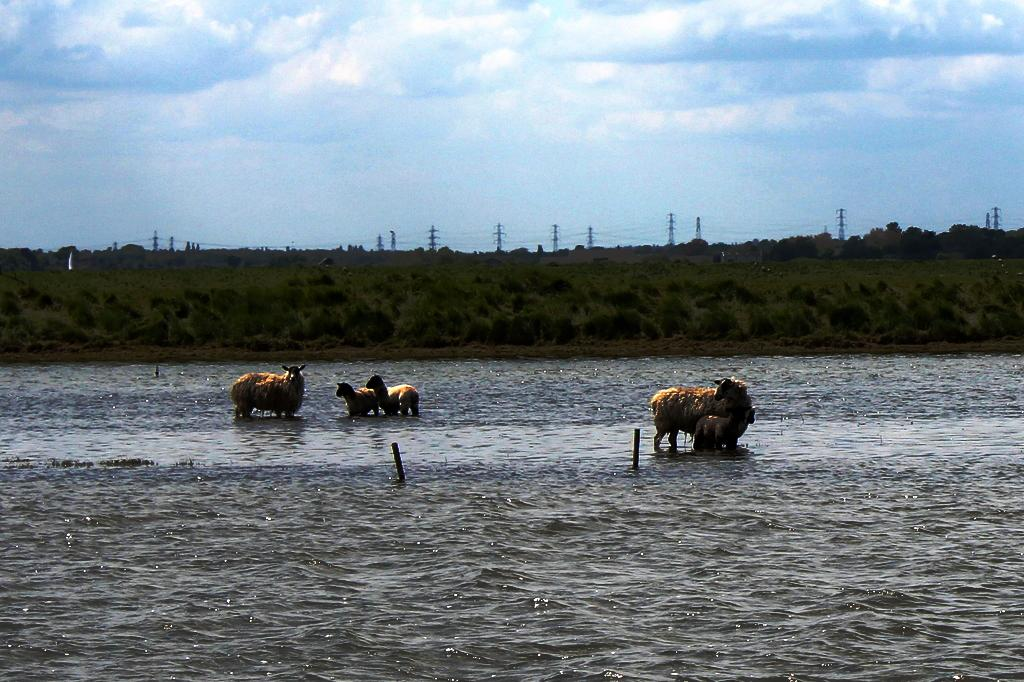Sheep: (652, 379, 757, 446), (224, 366, 306, 427), (695, 409, 750, 453), (368, 377, 420, 416), (336, 385, 378, 415), (750, 412, 754, 424)
